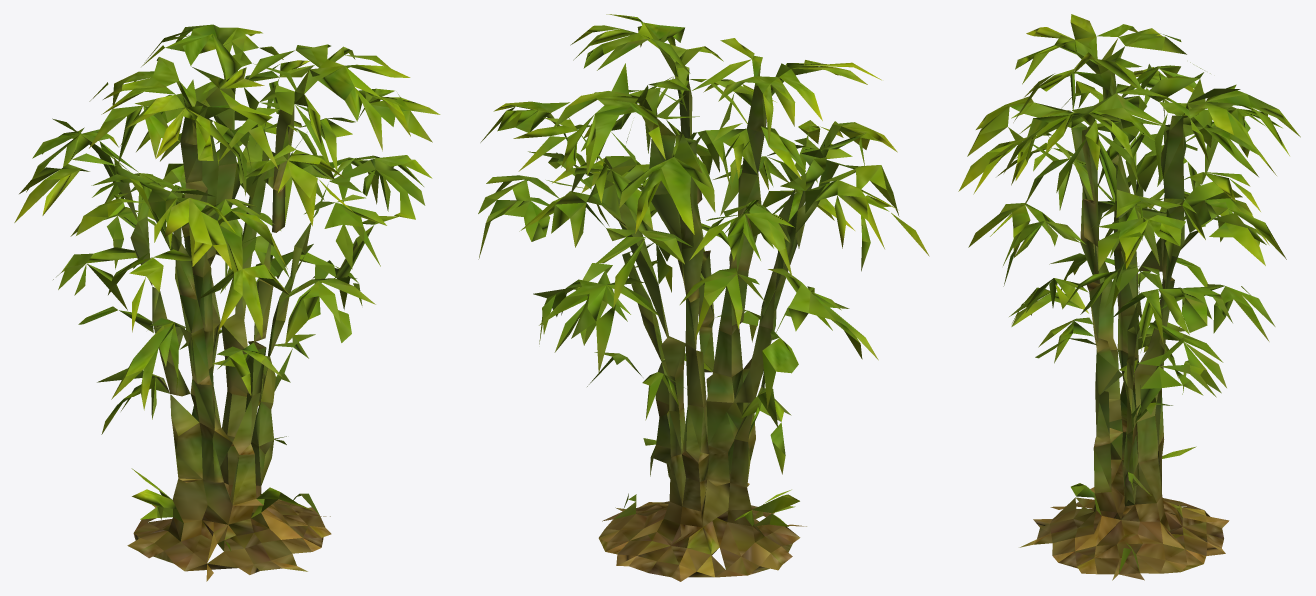
File: wewe-bambu.glb
3 renders of one model, left to right at view 1: azimuth 30°, elevation 25°; view 2: azimuth 150°, elevation 25°; view 3: azimuth 270°, elevation 25°, orthographic. The views are drawn at different scales.
Parts seen in each view (by area): view 1: wewe-bambu; view 2: wewe-bambu; view 3: wewe-bambu.
Boxes of the visible parts, box(x1,y1,x2,y2) form: wewe-bambu: box(14, 24, 440, 581); wewe-bambu: box(478, 14, 929, 581); wewe-bambu: box(958, 14, 1300, 580).
Size of the model in its own units: 0.8708 by 0.9786 by 0.6335.
Materials: 1 (1 with a texture image).
